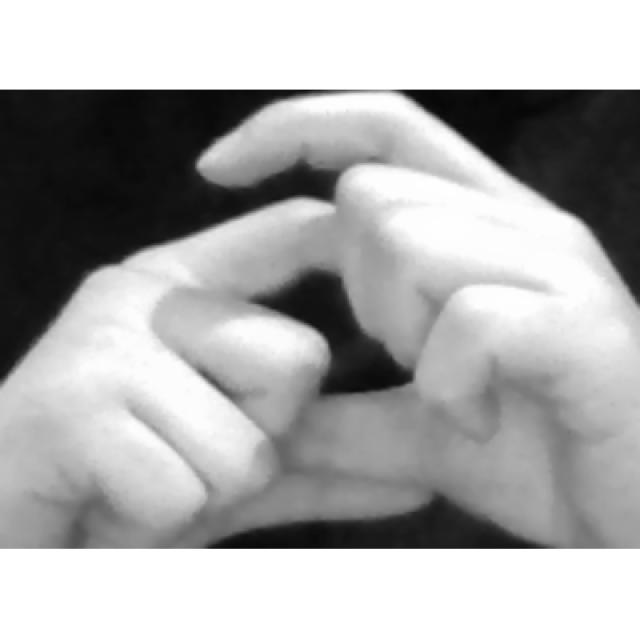G-: (1, 92, 639, 548)
